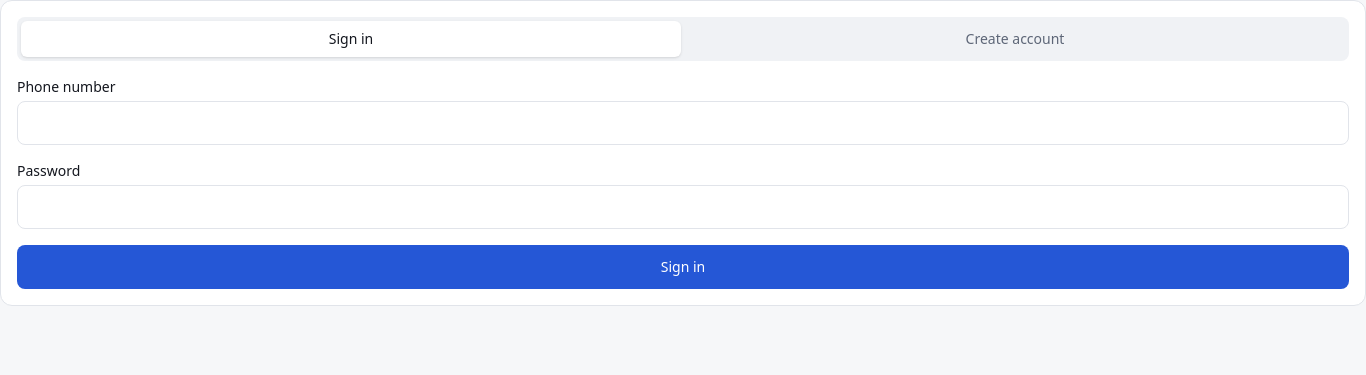
Test: LoginForm › shows the server's reason, including a lockout
In the field labelled "Phone number": (683, 123) top-left (17, 101), bottom-right (1349, 145), type "+1555"
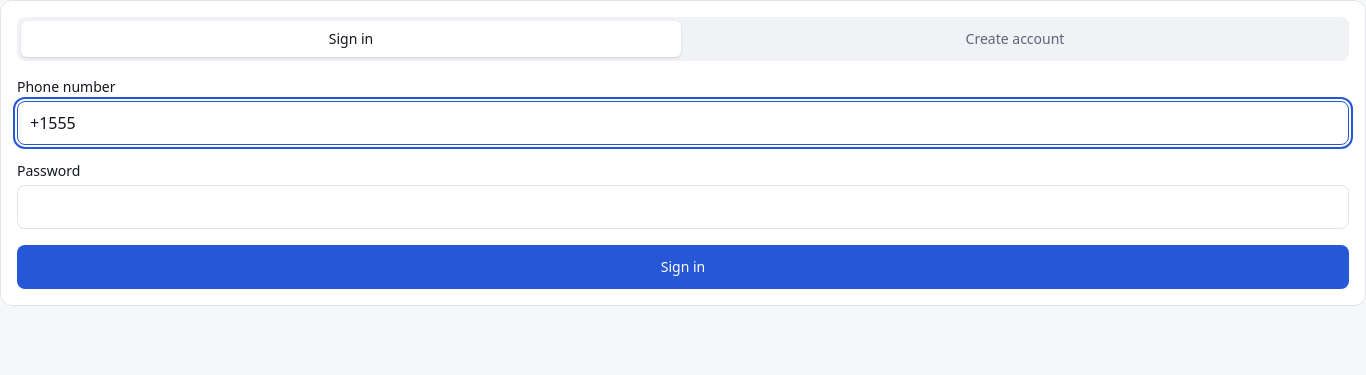
In the password field labelled "Password": (683, 207) top-left (17, 185), bottom-right (1349, 229), type "x"
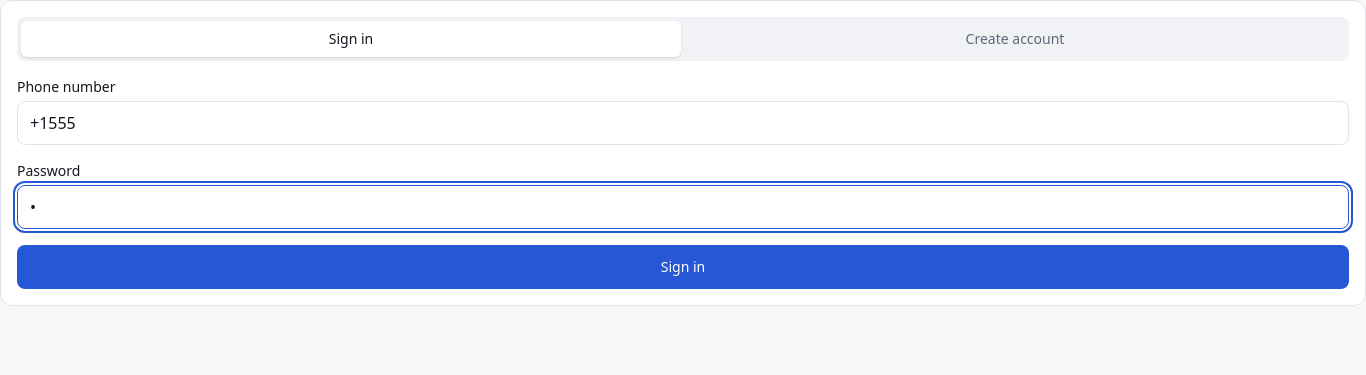
Click the button "Sign in": click(683, 267) top-left (17, 245), bottom-right (1349, 289)
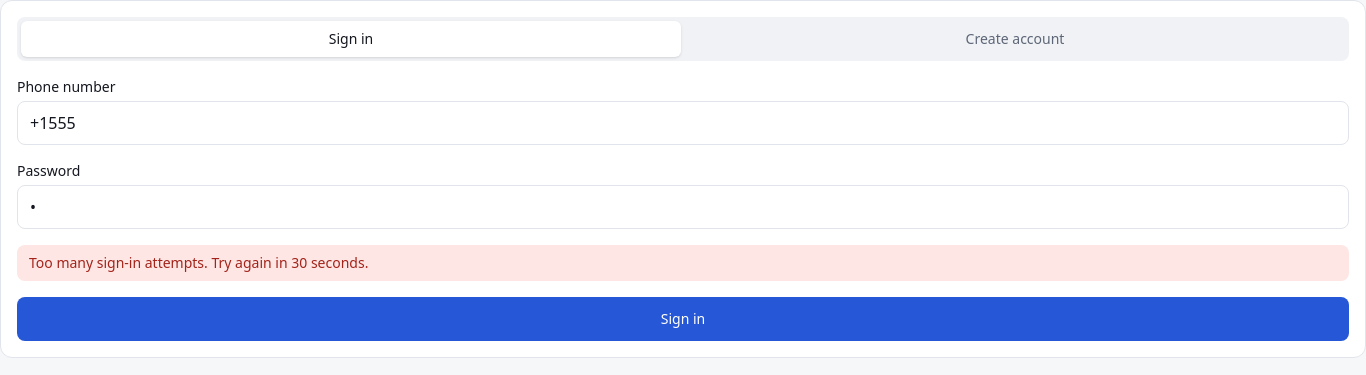
Expected: the message shows "Try again in 30 seconds", top-left (29, 253), bottom-right (368, 272)
